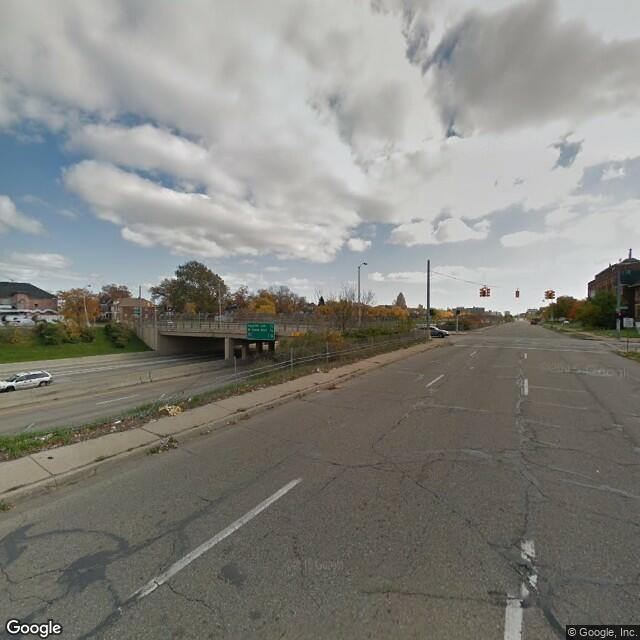litter: (158, 402, 183, 417), (112, 417, 122, 429), (35, 435, 55, 440), (316, 366, 324, 375), (315, 387, 319, 392)
